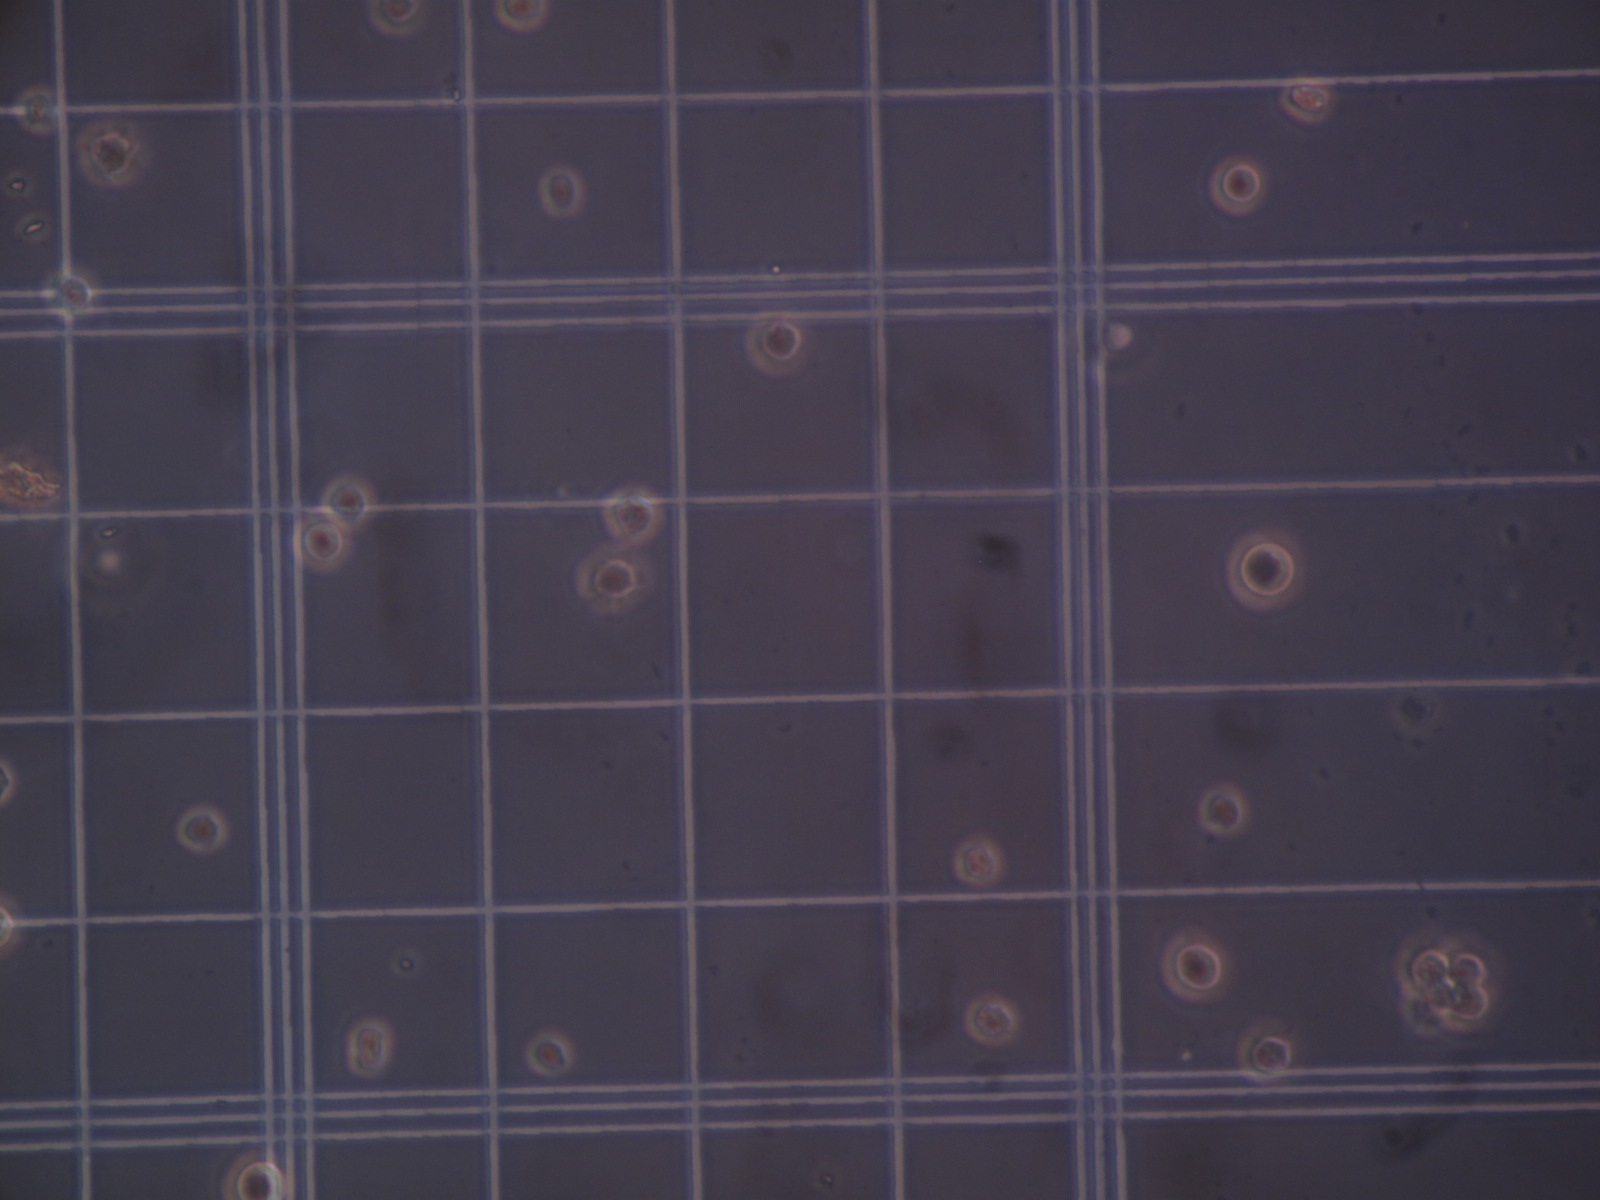hemo: (1225, 526, 1305, 611), (574, 545, 650, 615), (1162, 929, 1228, 1003), (76, 120, 142, 189), (745, 310, 808, 377), (1236, 1018, 1296, 1083), (1393, 932, 1453, 997), (602, 485, 661, 545), (220, 1150, 290, 1200), (292, 516, 351, 574), (1209, 155, 1266, 216), (1445, 932, 1502, 991), (320, 474, 375, 532), (43, 266, 97, 321), (346, 1018, 393, 1079), (964, 995, 1017, 1046), (1198, 783, 1249, 837), (952, 834, 1002, 886), (1279, 77, 1333, 124), (176, 805, 227, 855), (538, 165, 585, 218), (1443, 986, 1494, 1032), (525, 1030, 573, 1076), (14, 84, 59, 134), (368, 1, 430, 37), (1, 891, 24, 962), (495, 1, 548, 32), (1424, 978, 1456, 1013), (1, 754, 15, 811)
